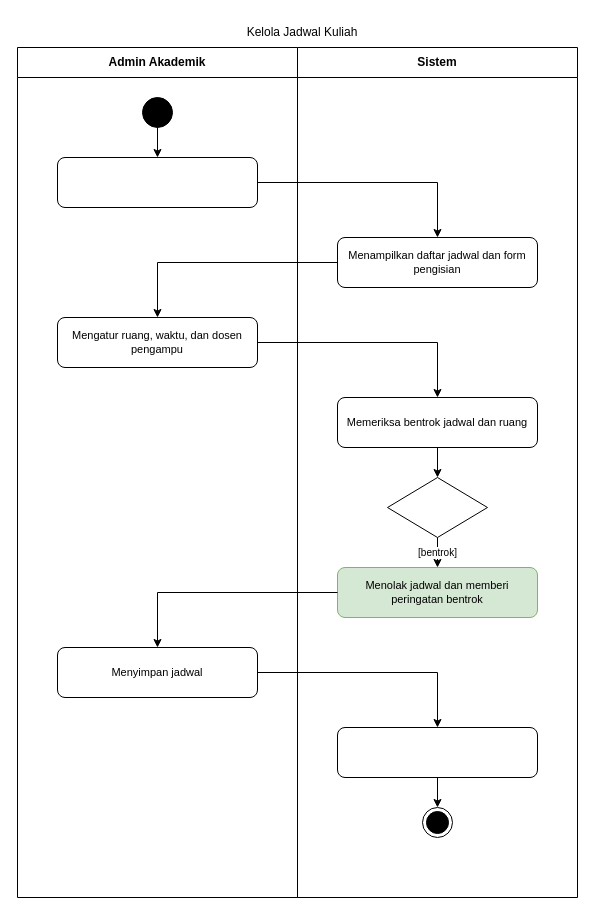
Some shapes in this 595 by 915 pixel diagram are drawn without their labels. Here are the shapes that lost their labels. From the top down, the centre of each, then its label:
At (x=157, y=182): "Membuka menu Kelola Jadwal Kuliah".
At (x=437, y=507): "Jadwal bebas bentrok?".
At (x=437, y=752): "Menerbitkan jadwal kuliah baru".
